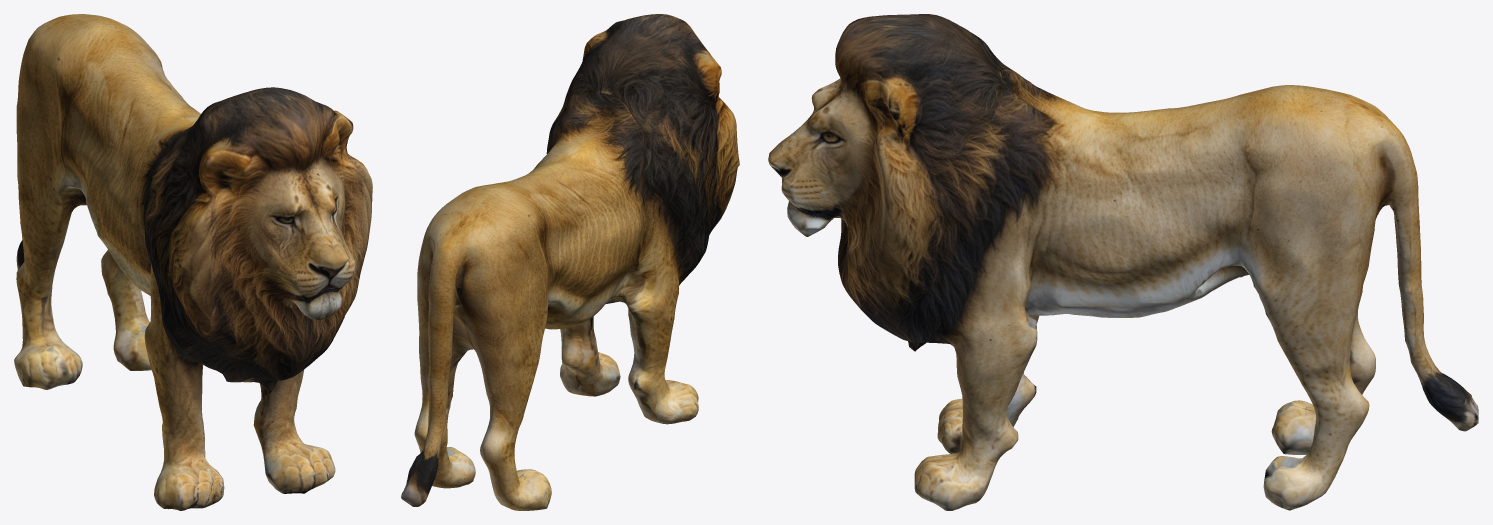
File: lion.gltf
The picture shows the model from 3 angles, left to right: view 1: azimuth 30°, elevation 25°; view 2: azimuth 150°, elevation 25°; view 3: azimuth 270°, elevation 25°; orthographic projection. The views are drawn at different scales.
Parts seen in each view (by area): view 1: Mesh_0_Material_0_0; view 2: Mesh_0_Material_0_0; view 3: Mesh_0_Material_0_0.
Part boxes in pixels (x1,y1,x2,y2): Mesh_0_Material_0_0: (14, 14, 372, 510); Mesh_0_Material_0_0: (401, 14, 739, 510); Mesh_0_Material_0_0: (768, 14, 1478, 510).
Bounding box in the file's own units: 0.419 × 0.8499 × 1.2.
Materials: 1 (1 with a texture image).
